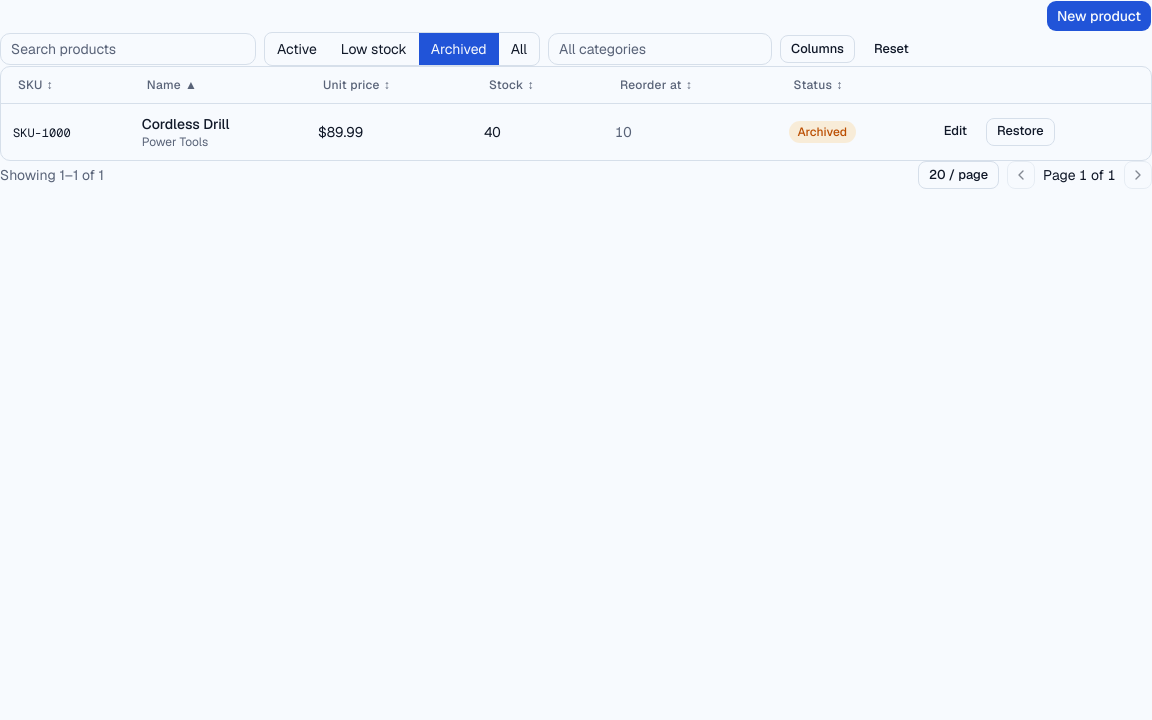
role-aware actions › surfaces conflicts inline without closing the dialog
Click the button "Restore": (1020, 132) [986,118,1055,146]
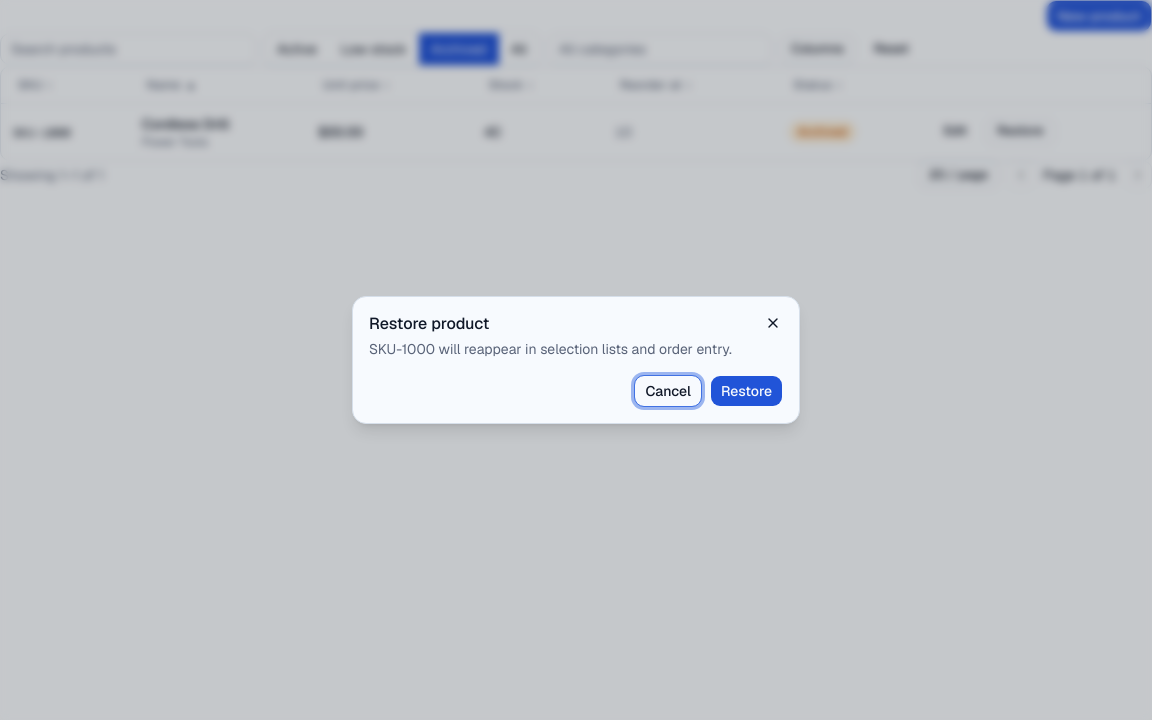
Click the button "Restore": (746, 391) [710,375,783,407]
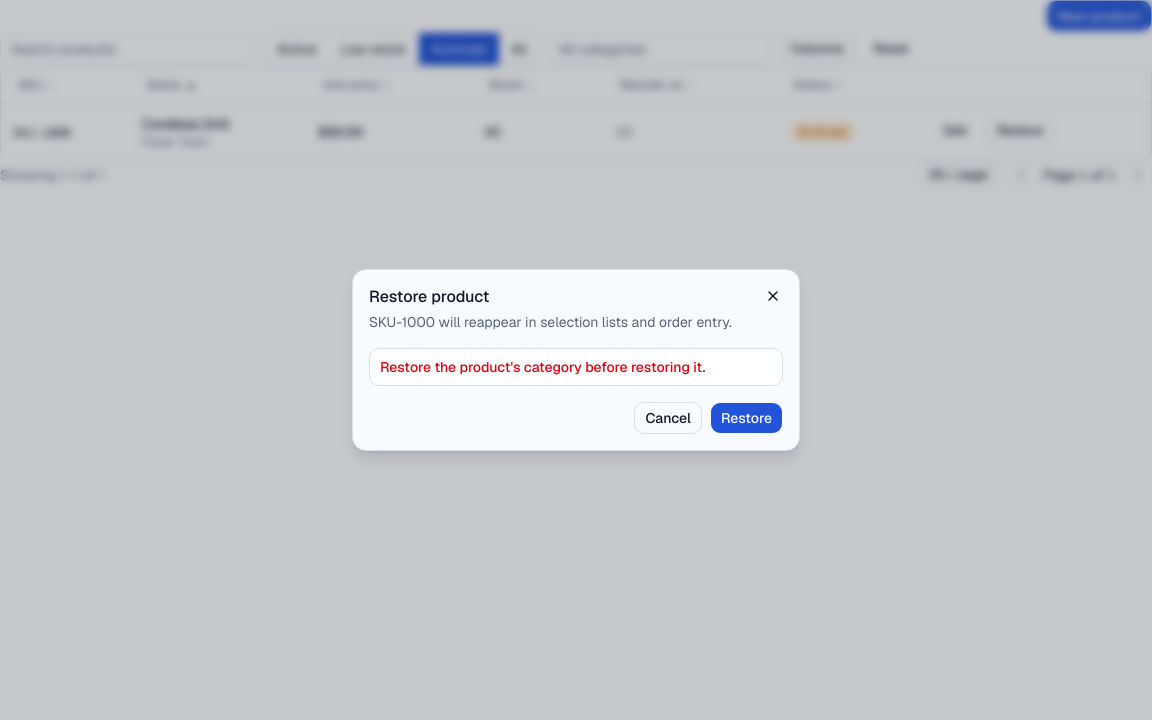
Check: the dialog is shown, box [352,269,800,451]
Check: the message shows "Restore the product's category", box [380,358,706,376]
